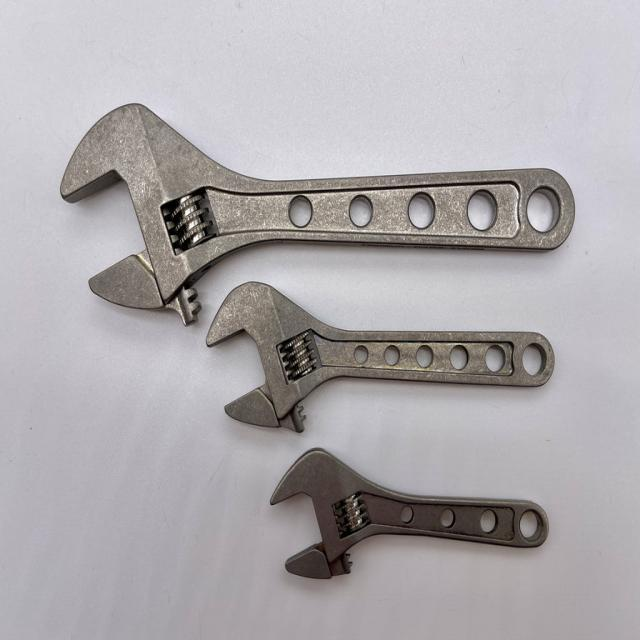wrench: (55, 98, 577, 327), (204, 277, 557, 439), (265, 446, 551, 584)
